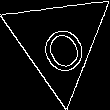O_NW: (29, 8, 89, 75)
